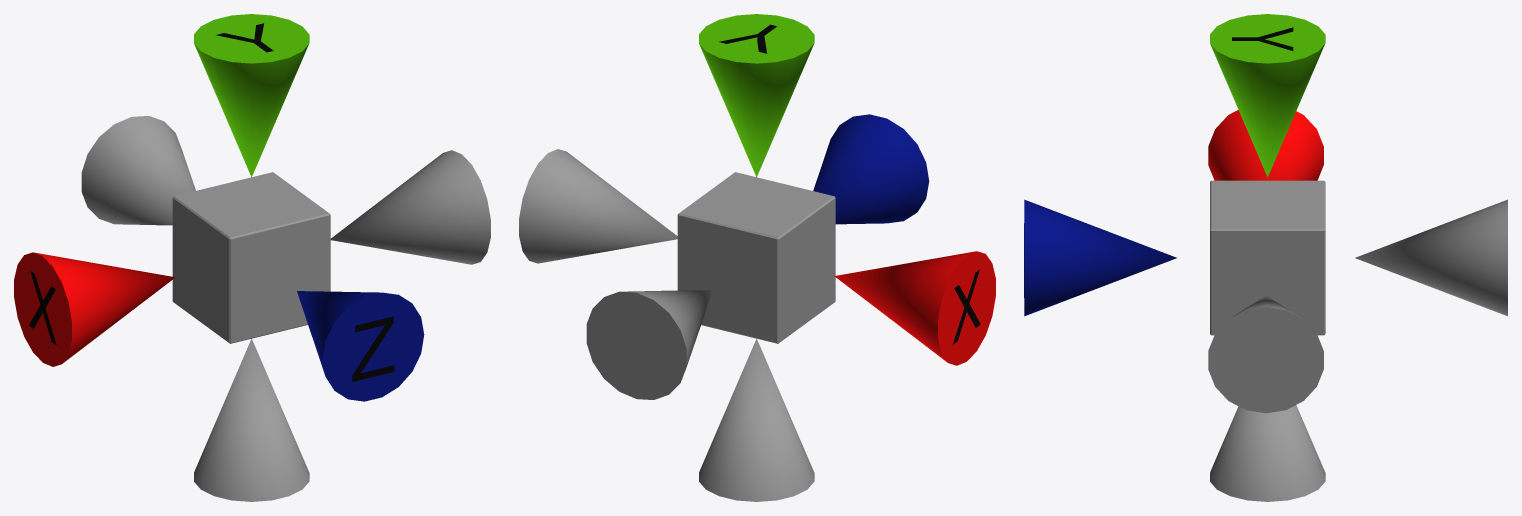
Rendered from tubiao.FBX.
3 views of the same model, side by side, from view 1: azimuth 30°, elevation 25°; view 2: azimuth 150°, elevation 25°; view 3: azimuth 270°, elevation 25° (orthographic).
Visible parts, largest first — view 1: 1, X, 3, Y, 4, Z, 2; view 2: 1, X, 3, Y, 4, 2, Z; view 3: 1, Y, 3, Z, 2, 4, X.
Boxes of the visible parts, left/top/right/bottom form: 1: left=172, top=172, right=330, bottom=343; X: left=14, top=252, right=175, bottom=366; 3: left=330, top=150, right=490, bottom=264; Y: left=194, top=14, right=309, bottom=177; 4: left=194, top=338, right=309, bottom=501; Z: left=297, top=291, right=424, bottom=401; 2: left=81, top=116, right=195, bottom=225; 1: left=677, top=172, right=835, bottom=343; X: left=834, top=251, right=995, bottom=365; 3: left=519, top=149, right=677, bottom=263; Y: left=699, top=14, right=814, bottom=177; 4: left=699, top=338, right=814, bottom=501; 2: left=586, top=289, right=712, bottom=399; Z: left=813, top=114, right=929, bottom=224; 1: left=1210, top=180, right=1325, bottom=335; Y: left=1210, top=14, right=1325, bottom=177; 3: left=1208, top=295, right=1323, bottom=413; Z: left=1024, top=199, right=1176, bottom=316; 2: left=1355, top=199, right=1507, bottom=316; 4: left=1210, top=405, right=1325, bottom=501; X: left=1208, top=110, right=1323, bottom=180.
Bounding box in the file's own units: 32.78 × 32.77 × 32.78.
